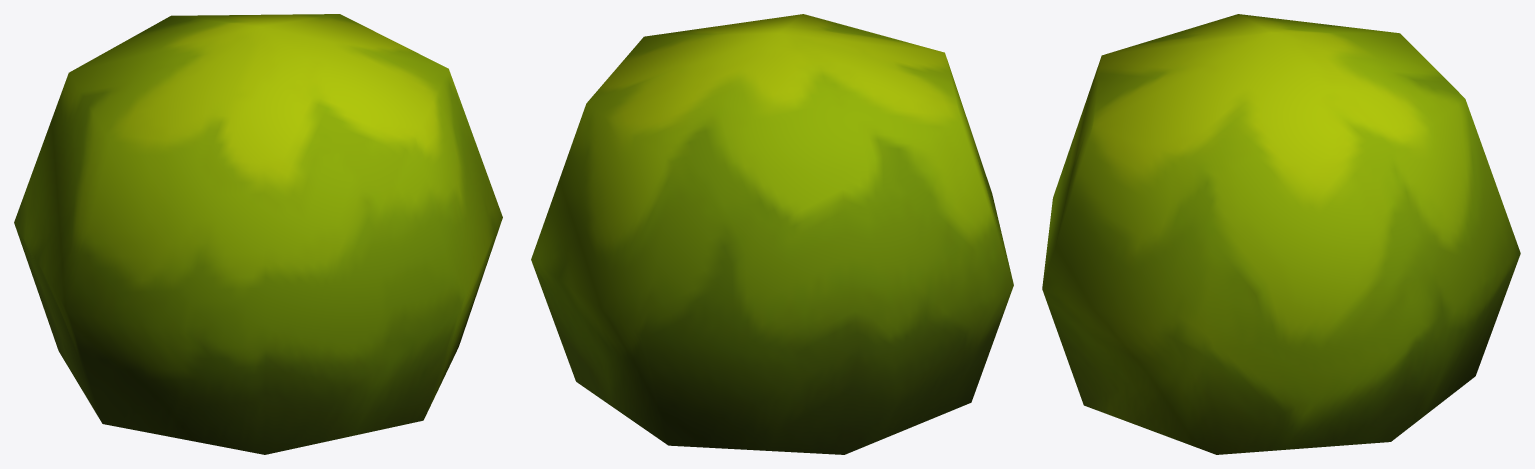
File: pk_model_dshucong2.FBX
3 renders of one model, left to right at view 1: azimuth 30°, elevation 25°; view 2: azimuth 150°, elevation 25°; view 3: azimuth 270°, elevation 25°, orthographic.
Parts seen in each view (by area): view 1: Sphere003; view 2: Sphere003; view 3: Sphere003.
Boxes of the visible parts, x1,y1,x2,y2 form: Sphere003: (14,14,502,454); Sphere003: (531,14,1013,454); Sphere003: (1042,14,1520,454).
Size of the model in its own units: 169 by 130 by 166.
